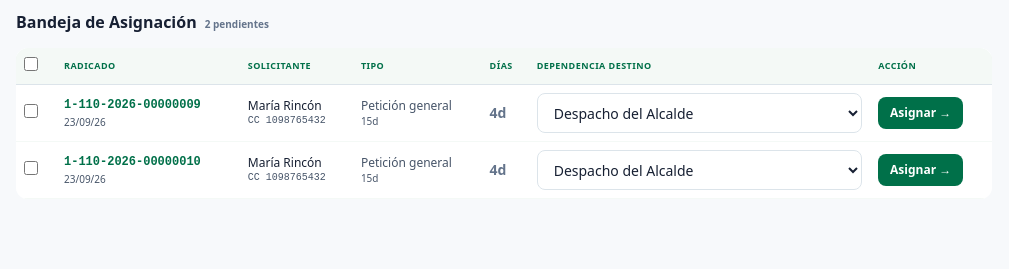
Bandeja de asignación · acceso y asignación intactos › asignación masiva: seleccionar todos + dependencia + «Asignar N»
Step 1. Click the checkbox named "Seleccionar todos los pendientes" → (31, 64), box top-left (24, 57), bottom-right (38, 71)
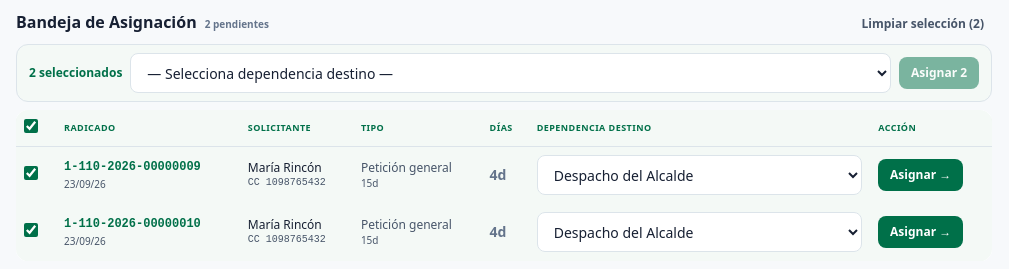
Result: the button "Asignar 2" is disabled at top-left (899, 57), bottom-right (979, 89)
Step 2. Select "Secretaría de Hacienda" in the dropdown named "Dependencia destino de los seleccionados" → (511, 73), box top-left (130, 53), bottom-right (891, 93)
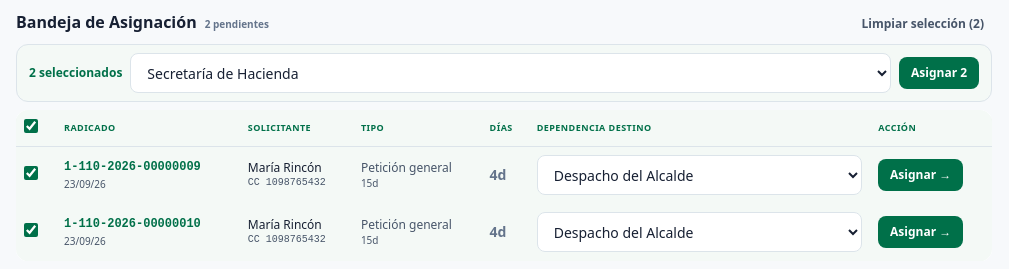
Step 3. Click the button "Asignar 2" → (939, 73), box top-left (899, 57), bottom-right (979, 89)
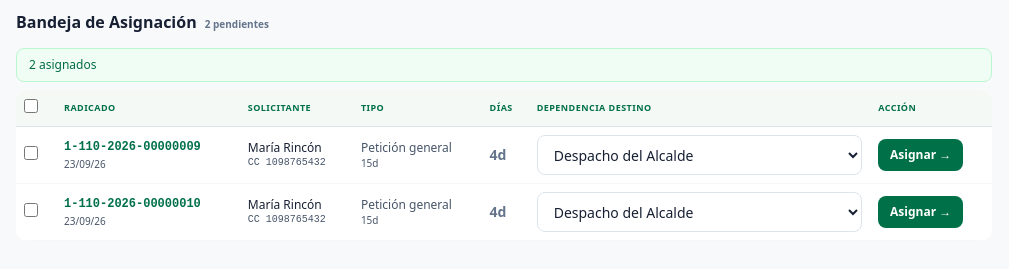
Result: the text "2 asignados" is shown at top-left (16, 48), bottom-right (992, 82)
